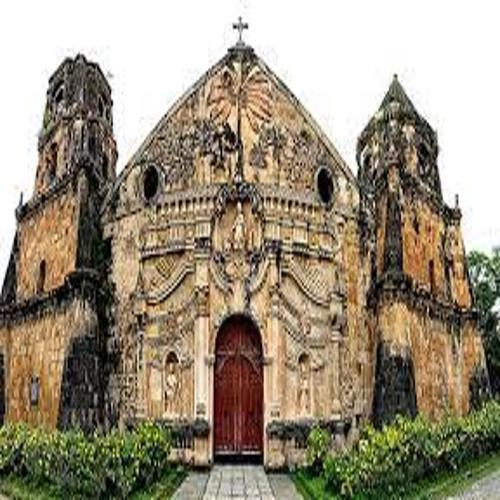Miagao Church: (11, 11, 493, 451)
